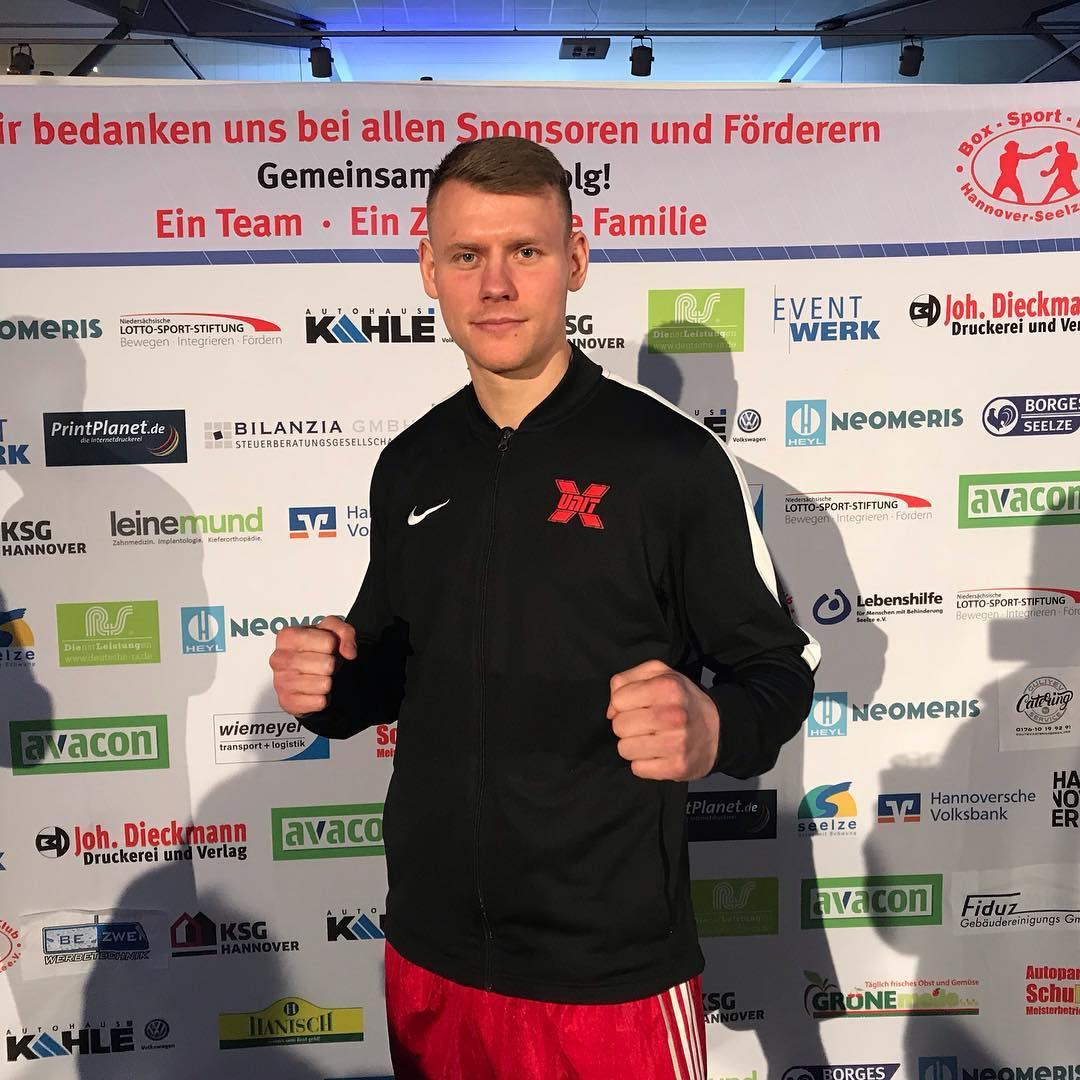hand: (280, 620, 347, 704)
